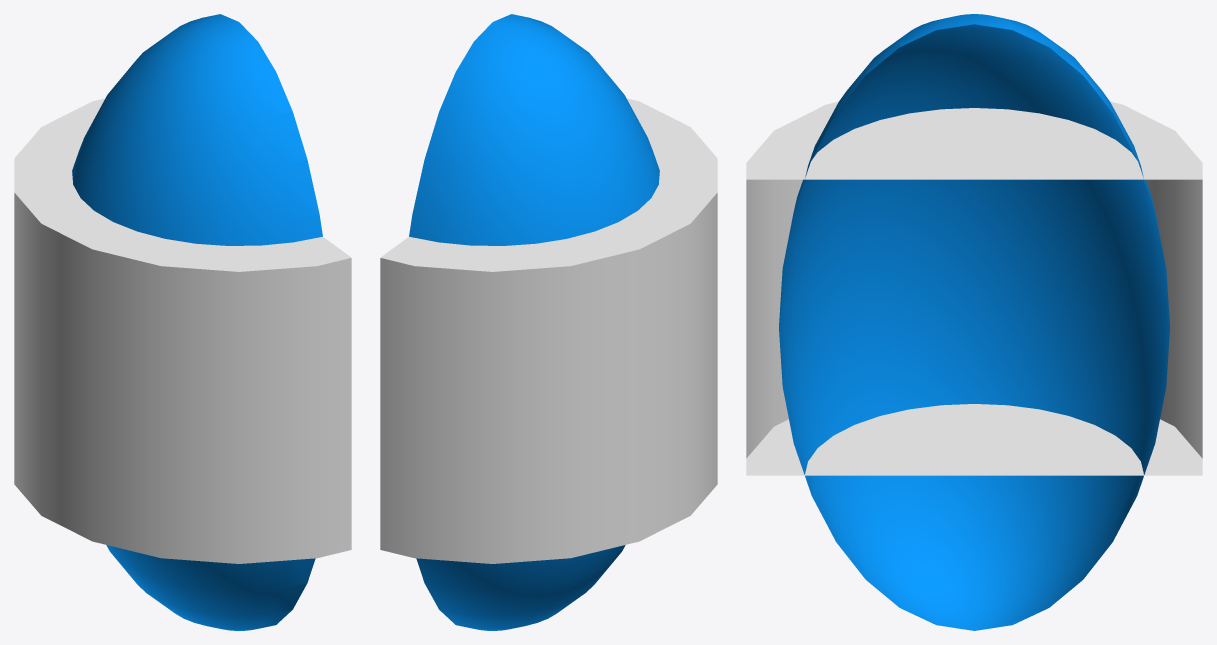
The model's file is HallLight.FBX.
3 renders of one model, left to right at view 1: azimuth 30°, elevation 25°; view 2: azimuth 150°, elevation 25°; view 3: azimuth 270°, elevation 25°, orthographic.
Parts seen in each view (by area): view 1: Bulb; view 2: Bulb; view 3: Bulb.
Boxes of the visible parts, x1,y1,x2,y2 form: Bulb: (14,14,351,630); Bulb: (380,14,717,630); Bulb: (746,14,1202,630).
Size of the model in its own units: 13.6 by 39.33 by 26.79.
